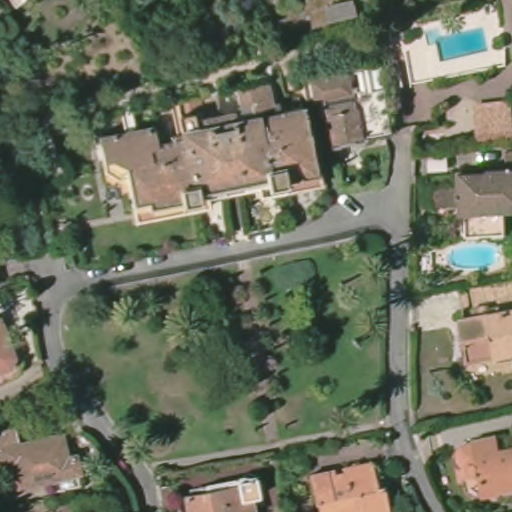pool: (421, 21, 490, 59), (447, 241, 502, 272)
